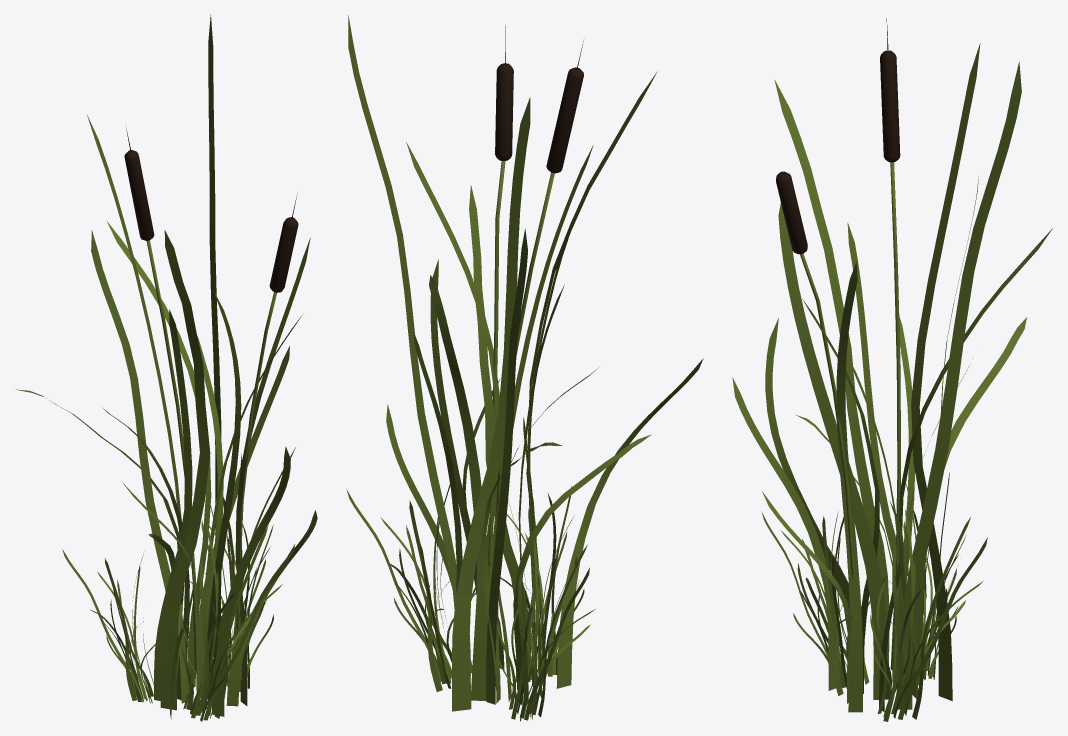
File: cattail.glb
3 views of the same model, side by side, from view 1: azimuth 30°, elevation 25°; view 2: azimuth 150°, elevation 25°; view 3: azimuth 270°, elevation 25° (orthographic). The views are drawn at different scales.
Parts seen in each view (by area): view 1: Hi Res Cattail.001_w; view 2: Hi Res Cattail.001_w; view 3: Hi Res Cattail.001_w.
Boxes of the visible parts, x1=… form: Hi Res Cattail.001_w: x1=16, y1=14, x2=317, y2=721; Hi Res Cattail.001_w: x1=346, y1=15, x2=703, y2=721; Hi Res Cattail.001_w: x1=732, y1=18, x2=1052, y2=721.
Size of the model in its own units: 0.6447 by 1.7 by 0.732.
Materials: 1 (1 with a texture image).
